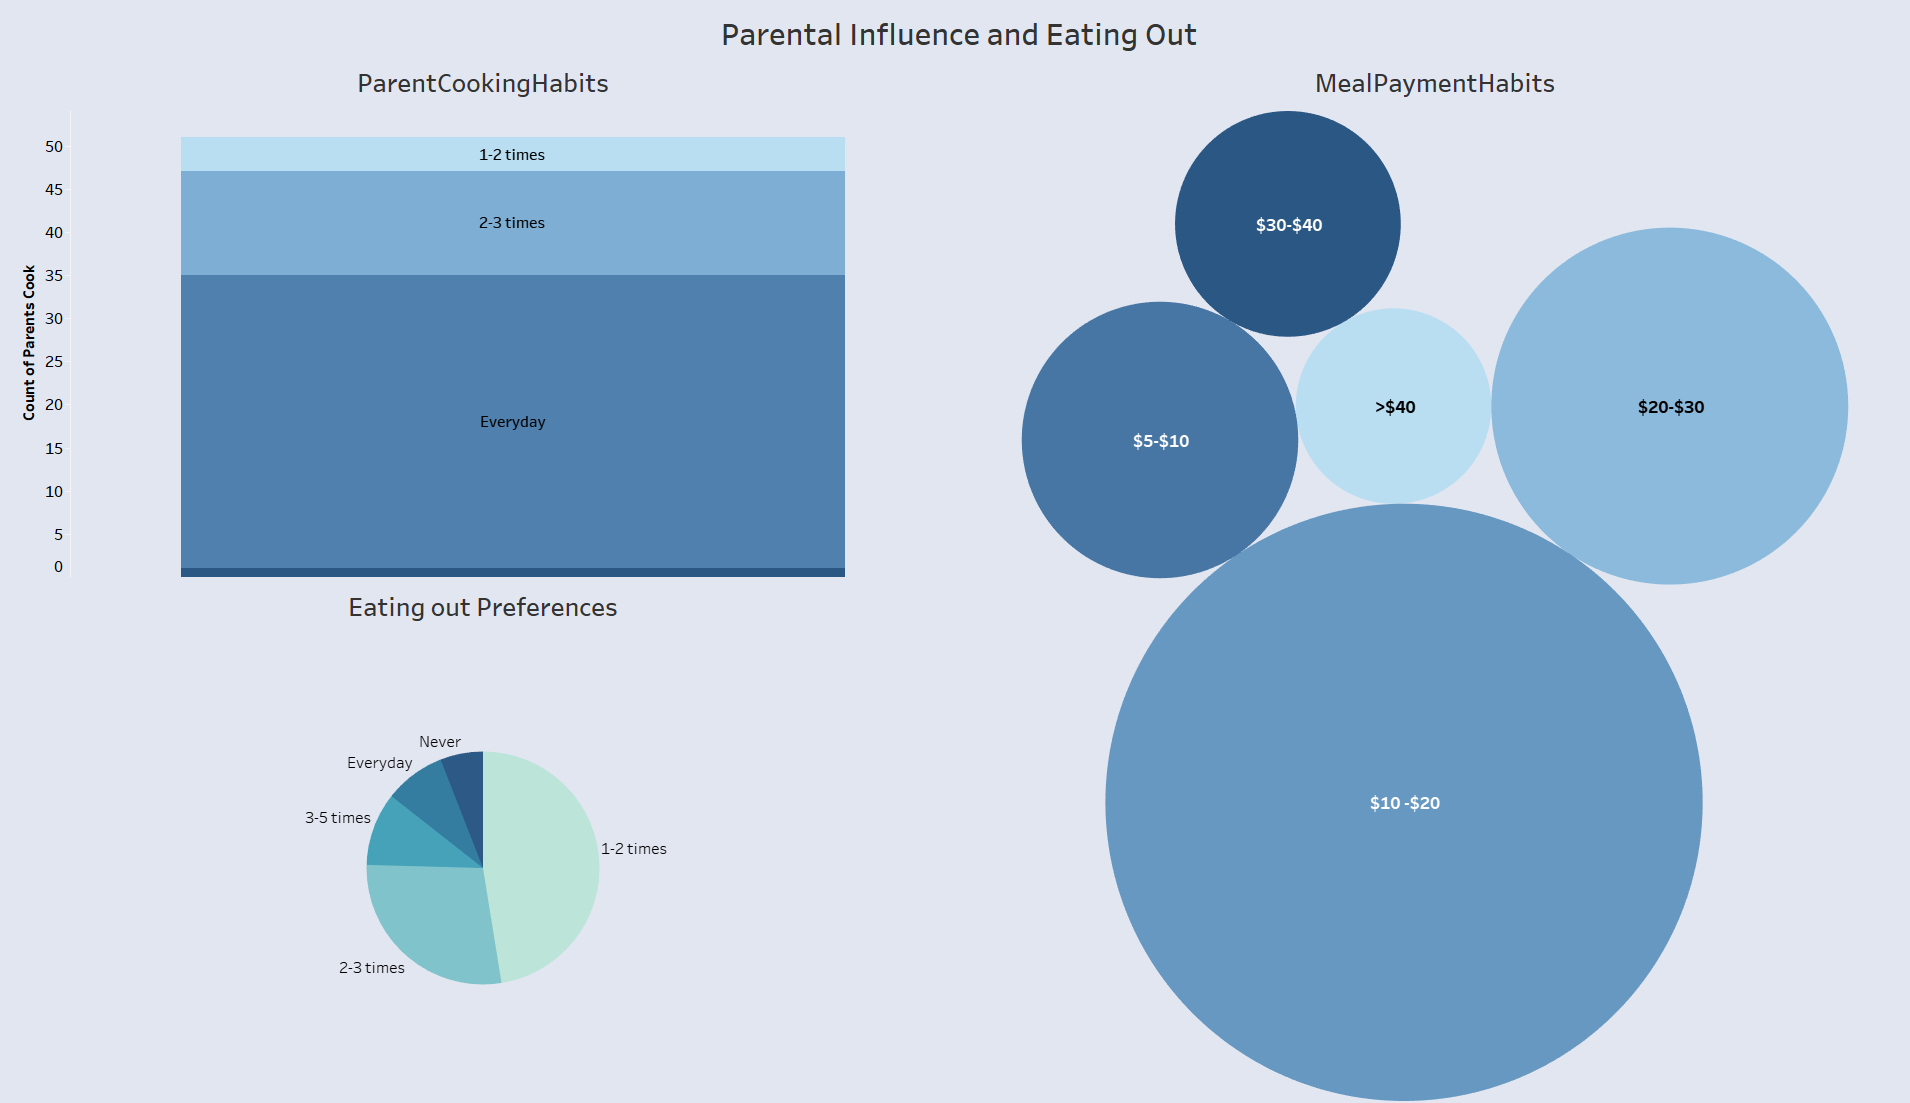

The dashboard page shown, as its layout file describes it:
{"tool":"tableau","page":{"name":"Dashboard 4","canvas":[1000,1000],"units":"permille","ordinal":3},"visuals":[{"type":"title","box":[4.2,7.2,991.7,44]},{"type":"worksheet","title":"parent","mark":"Automatic","rows":["parents_cook"],"box":[4.2,51.2,495.8,470.8]},{"type":"worksheet","title":"MealPay","mark":"Circle","box":[500,51.2,495.8,941.6]},{"type":"worksheet","title":"Eat out","mark":"Pie","box":[4.2,522,495.8,470.8]}]}

Visuals, with their boxes on the dashboard's canvas, which has no fixed pixel size, in thousandths of its width and height (x1, y1, x2, y2). These are canvas units, not pixel positions in the 1910x1103 screenshot, which may show the page scaled, cropped or inside an application window:
title: {"x1": 4, "y1": 7, "x2": 996, "y2": 51}
"parent" worksheet: {"x1": 4, "y1": 51, "x2": 500, "y2": 522}
"MealPay" worksheet (Circle marks): {"x1": 500, "y1": 51, "x2": 996, "y2": 993}
"Eat out" worksheet (Pie marks): {"x1": 4, "y1": 522, "x2": 500, "y2": 993}
